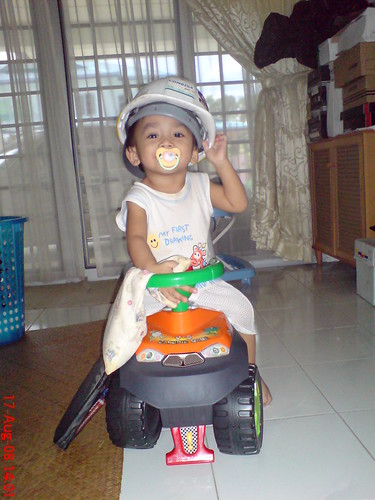person hardhat: (99, 72, 281, 454)
